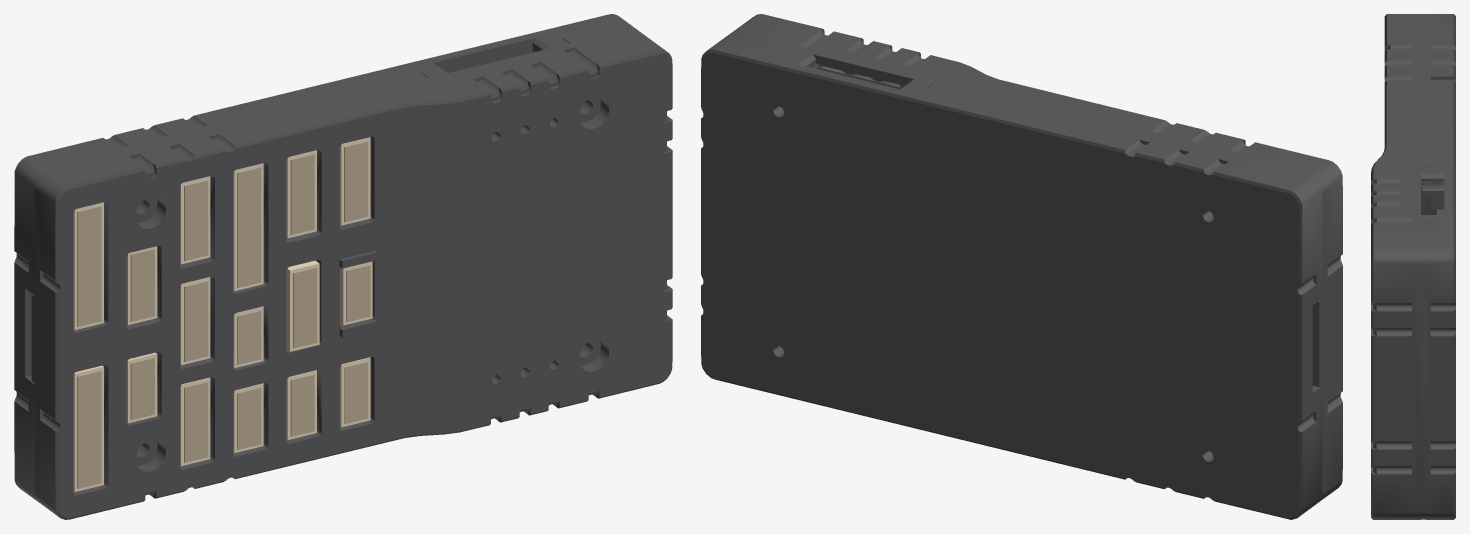
File: pixhawk_6c.glb
3 renders of one model, left to right at view 1: azimuth 30°, elevation 25°; view 2: azimuth 150°, elevation 25°; view 3: azimuth 270°, elevation 25°, orthographic. The views are drawn at different scales.
Visible parts, largest first — view 1: c_19191c, c_8c7251, c_dbbc8c; view 2: c_19191c; view 3: c_19191c.
Boxes of the visible parts, <box> form: c_19191c: <box>14,14,672,519</box>; c_8c7251: <box>77,141,370,488</box>; c_dbbc8c: <box>73,137,372,492</box>; c_19191c: <box>701,14,1342,519</box>; c_19191c: <box>1371,14,1455,519</box>.
Size of the model in its own units: 0.084 by 0.044 by 0.0124.
